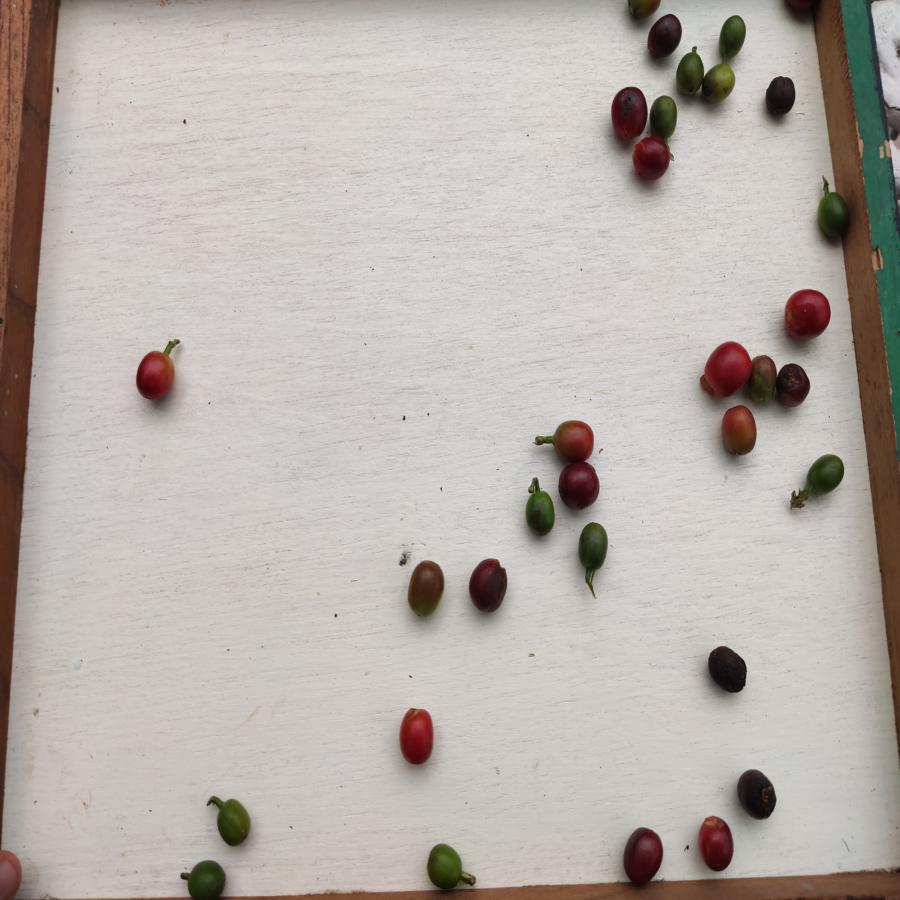Inmaduro: (802, 445, 847, 496), (424, 837, 463, 892), (816, 189, 851, 242), (215, 797, 255, 842), (521, 486, 556, 537), (702, 60, 737, 108), (184, 861, 229, 898), (578, 520, 608, 572), (717, 13, 749, 57), (649, 93, 679, 138), (677, 52, 705, 95)
Maduro: (697, 336, 754, 399), (778, 285, 837, 343), (396, 704, 438, 765), (135, 348, 175, 403), (548, 419, 595, 463)
Pinton: (405, 558, 452, 620), (719, 403, 763, 458)
Sobremaduro: (703, 641, 751, 697), (468, 556, 511, 617), (623, 824, 667, 881), (736, 766, 779, 823), (632, 135, 677, 185), (609, 84, 648, 141), (698, 811, 734, 871), (773, 358, 812, 411), (762, 71, 799, 125), (558, 464, 603, 508), (647, 10, 683, 56), (748, 355, 779, 402)
